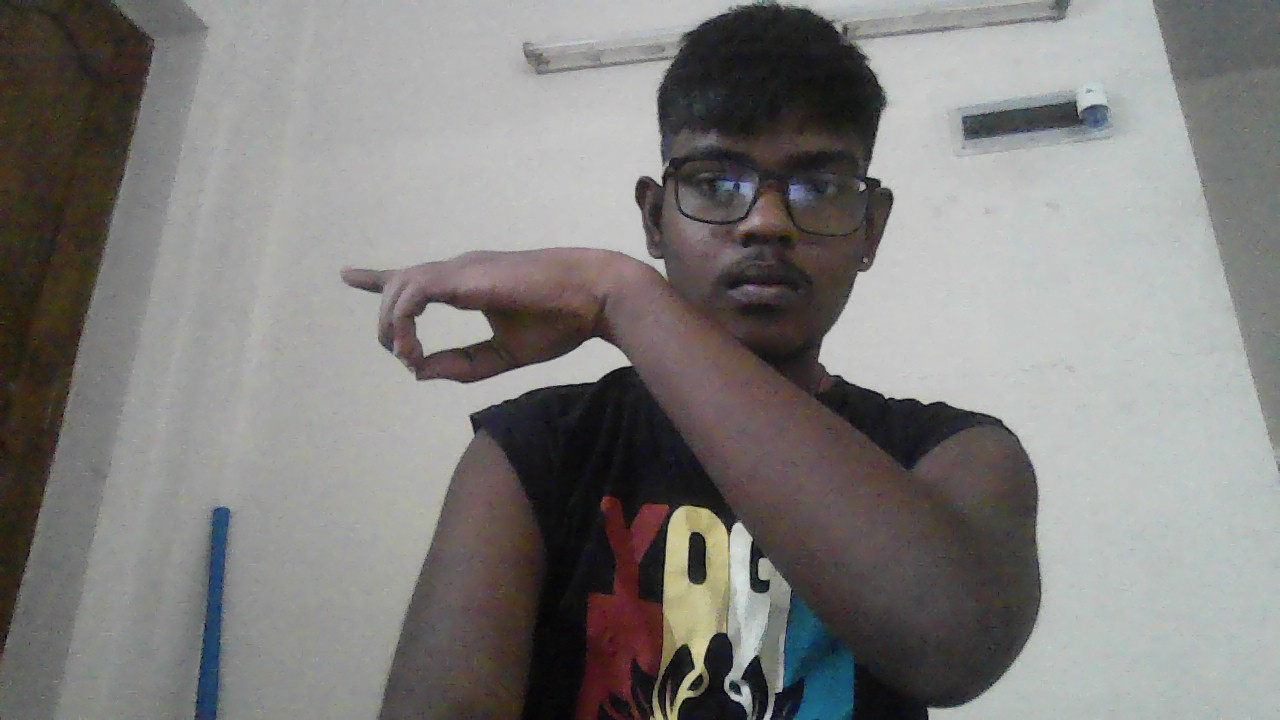P: (339, 247, 613, 384)
